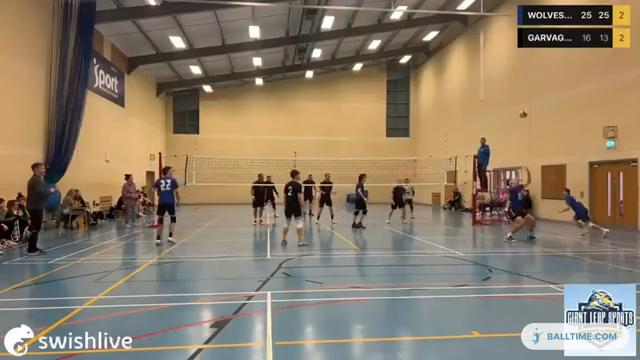alzata: (503, 166, 540, 246)
